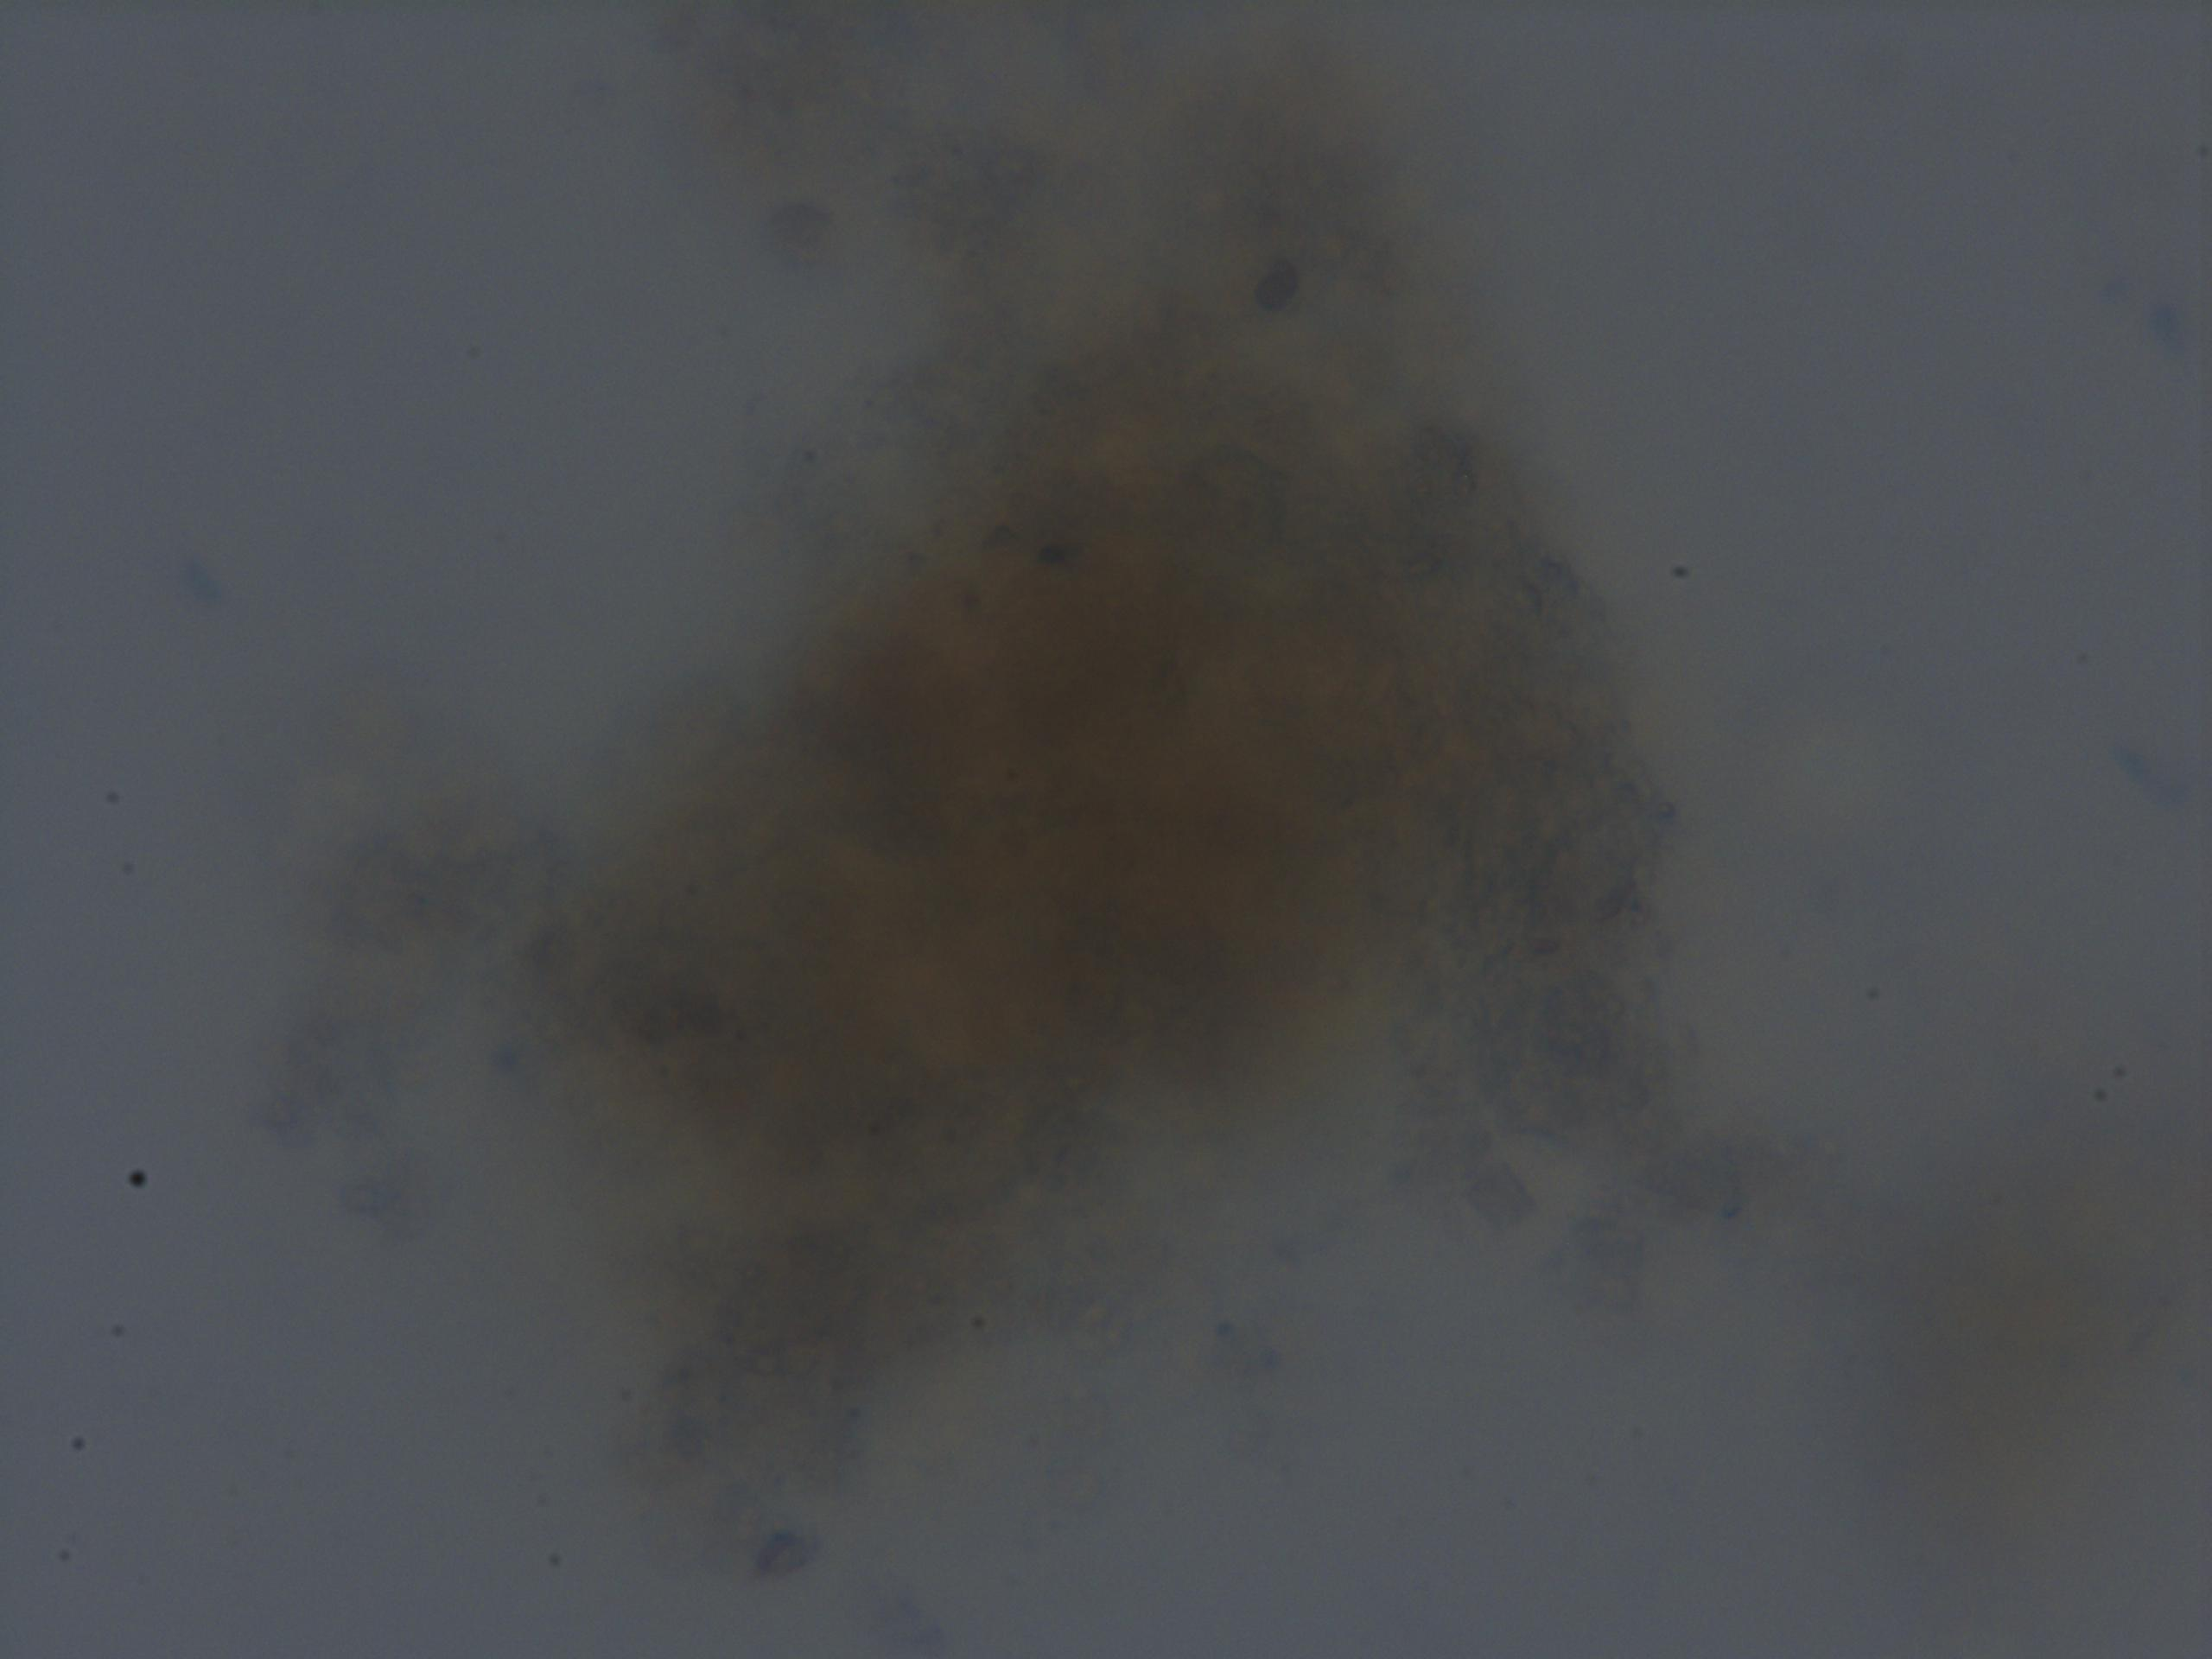spherical_floc: (462, 338, 1679, 1378)
